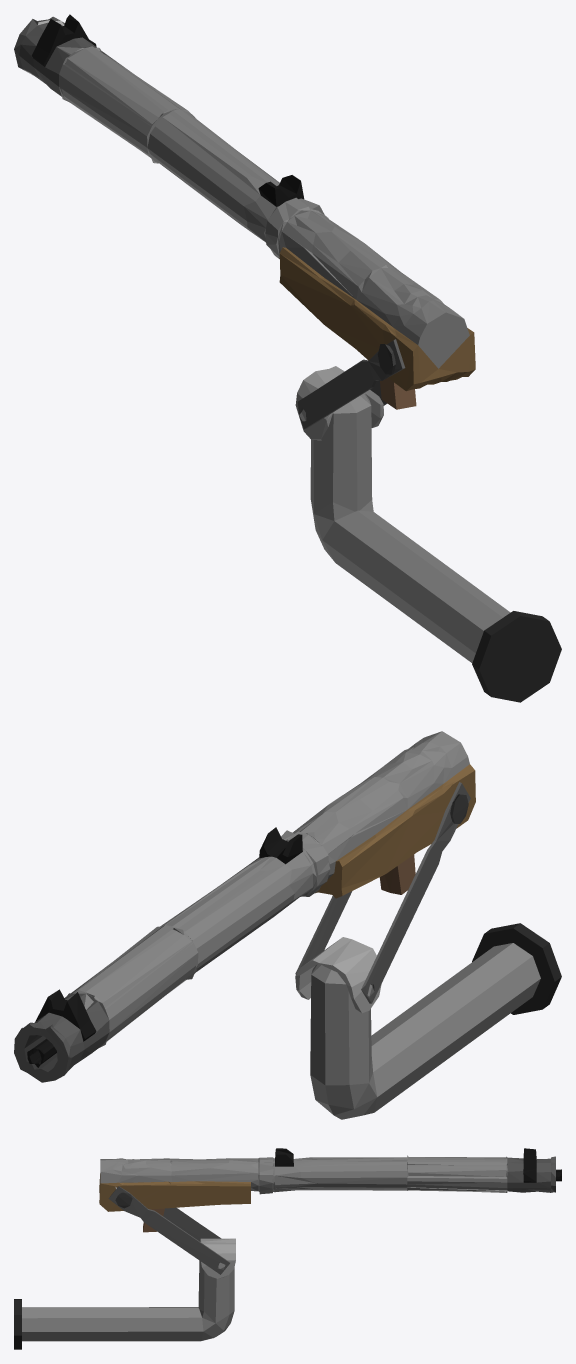
File: TurretFinal.fbx
3 renders of one model, top to bottom at view 1: azimuth 30°, elevation 25°; view 2: azimuth 150°, elevation 25°; view 3: azimuth 270°, elevation 25°, orthographic. The views are drawn at different scales.
Parts seen in each view (by area): view 1: Turret, Pole; view 2: Turret, Pole; view 3: Turret, Pole.
Boxes of the visible parts, box(x1,y1,x2,y2) form: Turret: box(14, 14, 475, 440); Pole: box(310, 393, 561, 702); Turret: box(14, 731, 475, 1082); Pole: box(310, 923, 561, 1119); Turret: box(99, 1148, 561, 1278); Pole: box(14, 1260, 234, 1349).
Bounding box in the file's own units: 43.45 × 176 × 440.
